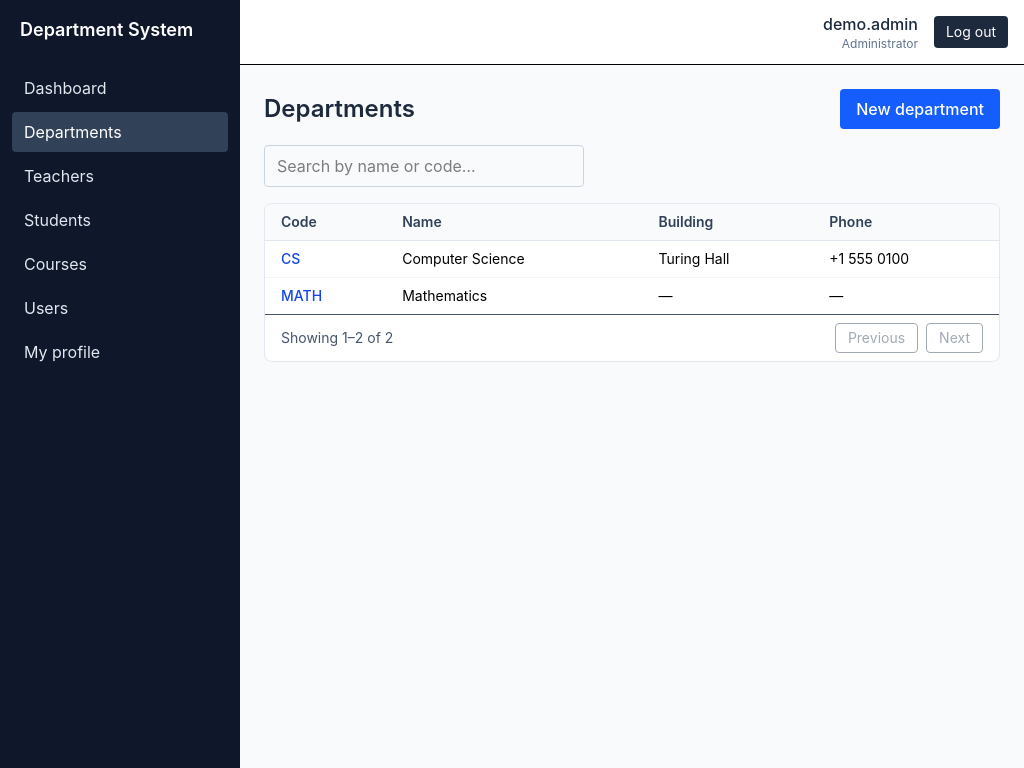
Department form (create) › creates a department, shows a toast and refreshes the list
Click the button "New department". click: (920, 109)
box: [840,89,1000,129]
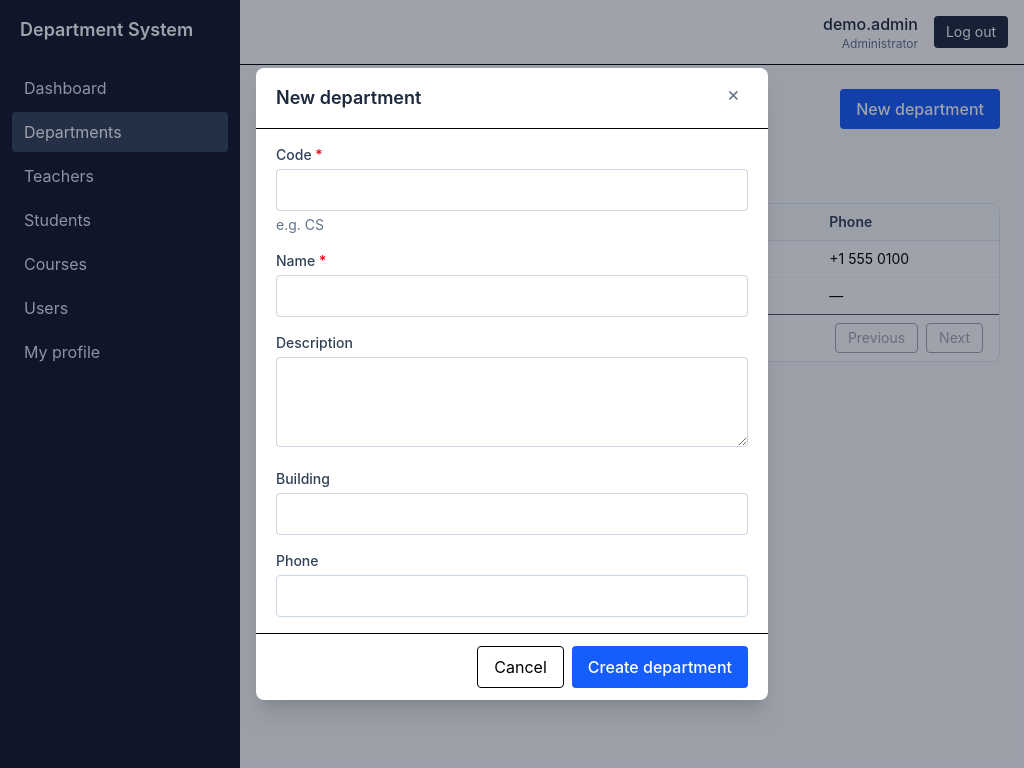
Type " ee " into the field labelled "Code *". click: (512, 190)
box: [276,169,748,211]
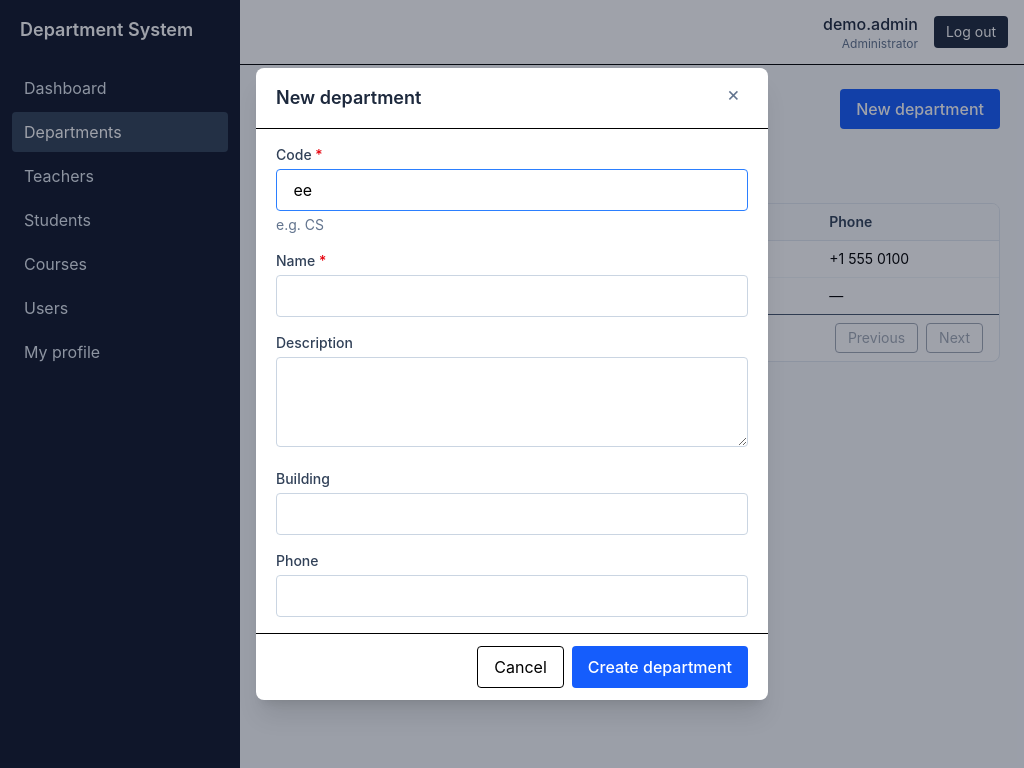
Type "Electrical" into the field labelled "Name *". click: (512, 296)
box: [276,275,748,317]
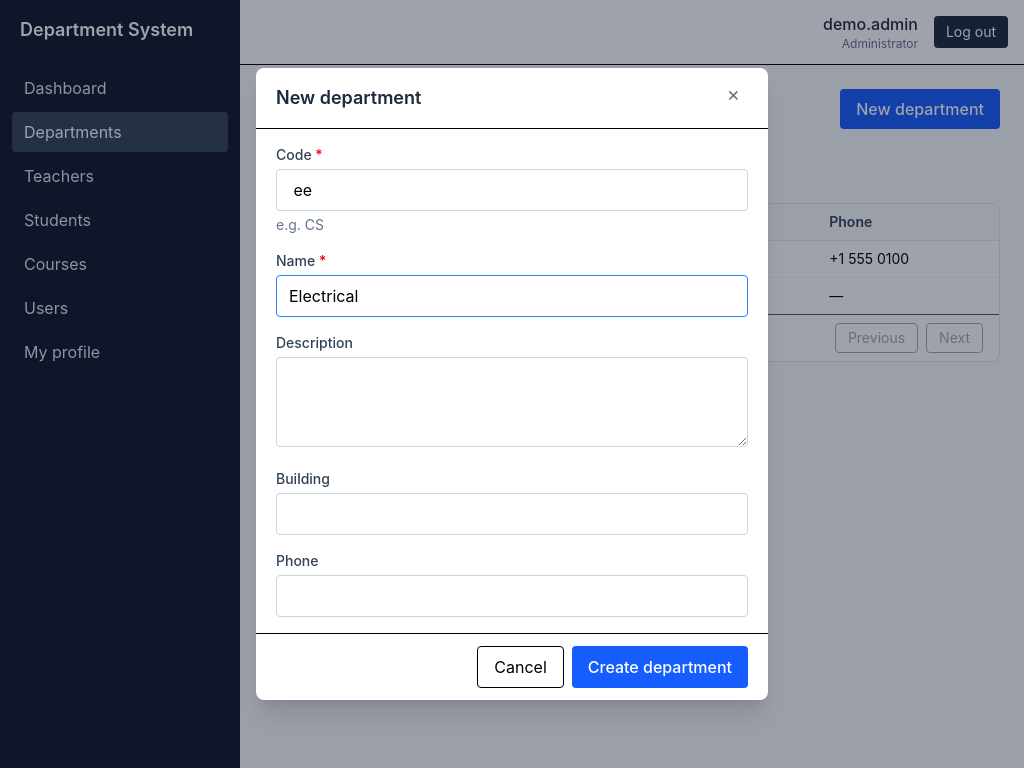
Type "Volta Hall" into the field labelled "Building". click: (512, 514)
box: [276,493,748,535]
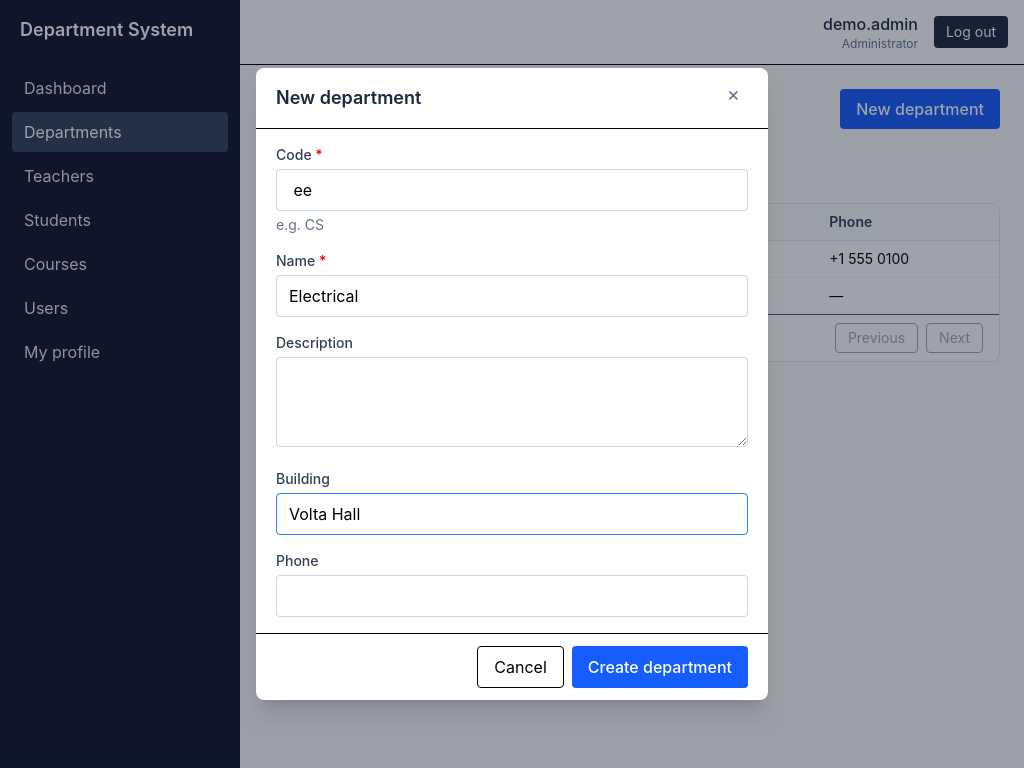
Click the button "Create department". click: (660, 667)
box: [572,646,748,688]
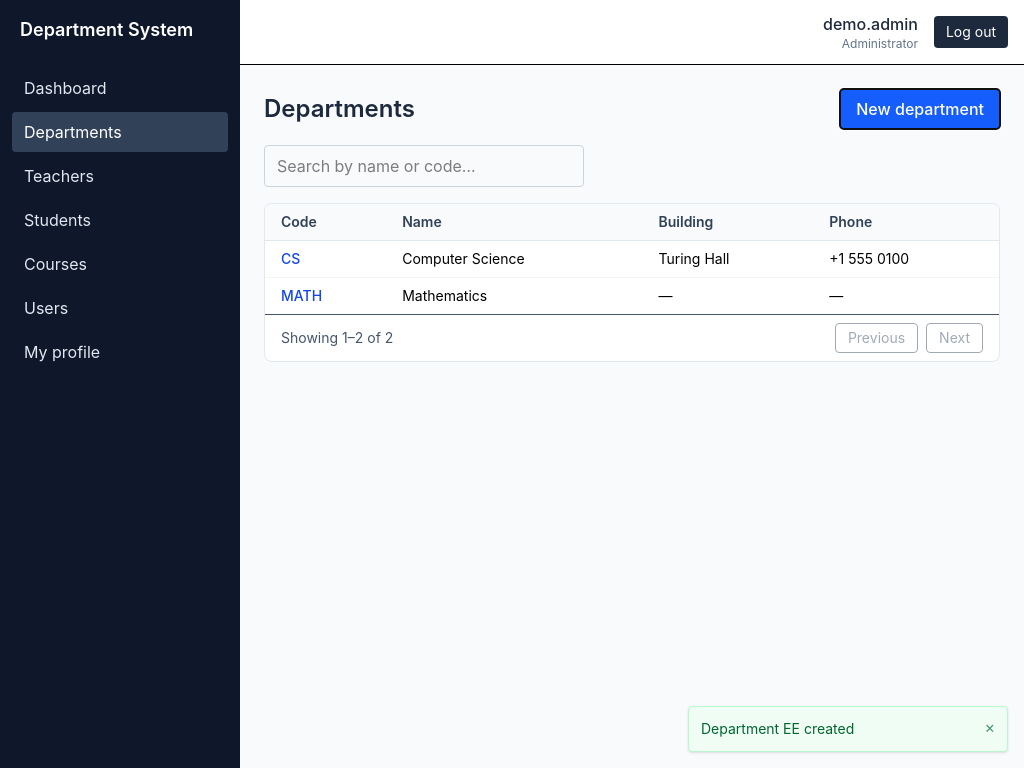
Result: the message shows "Department EE created" at [701,720,854,737]
Result: the dialog is gone
